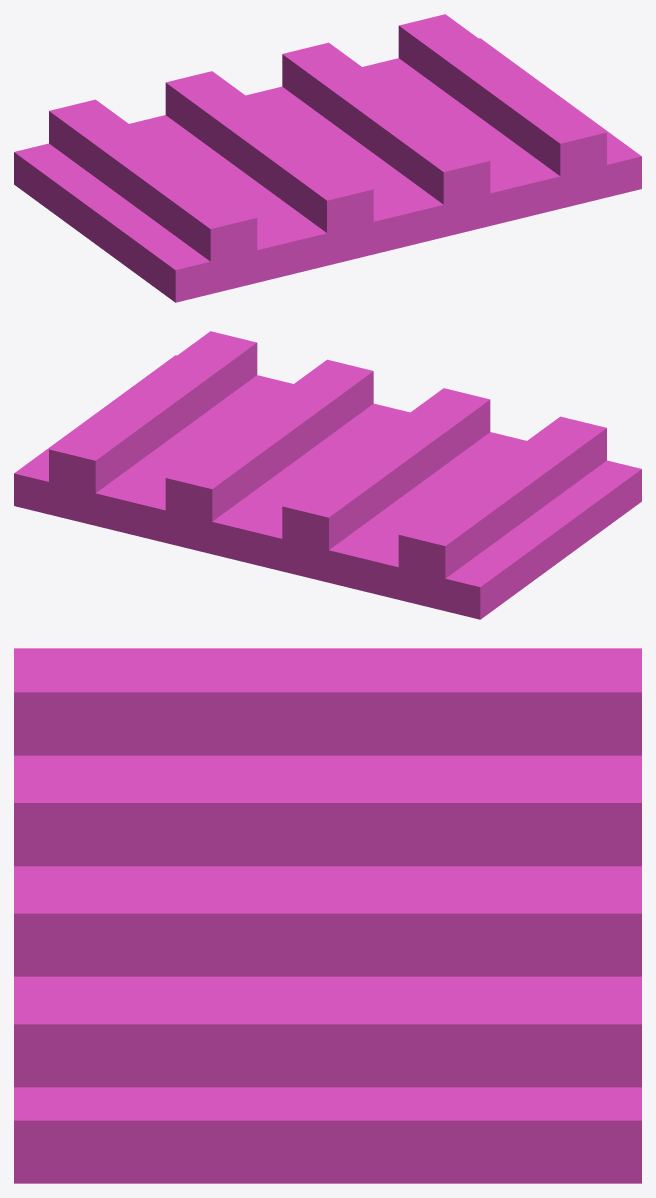
Rendered from placeholder_vent.glb.
3 views of the same model, one above another, from view 1: azimuth 30°, elevation 25°; view 2: azimuth 150°, elevation 25°; view 3: azimuth 270°, elevation 25° (orthographic). The views are drawn at different scales.
Bounding box in the file's own units: 0.3 × 0.04 × 0.18.
